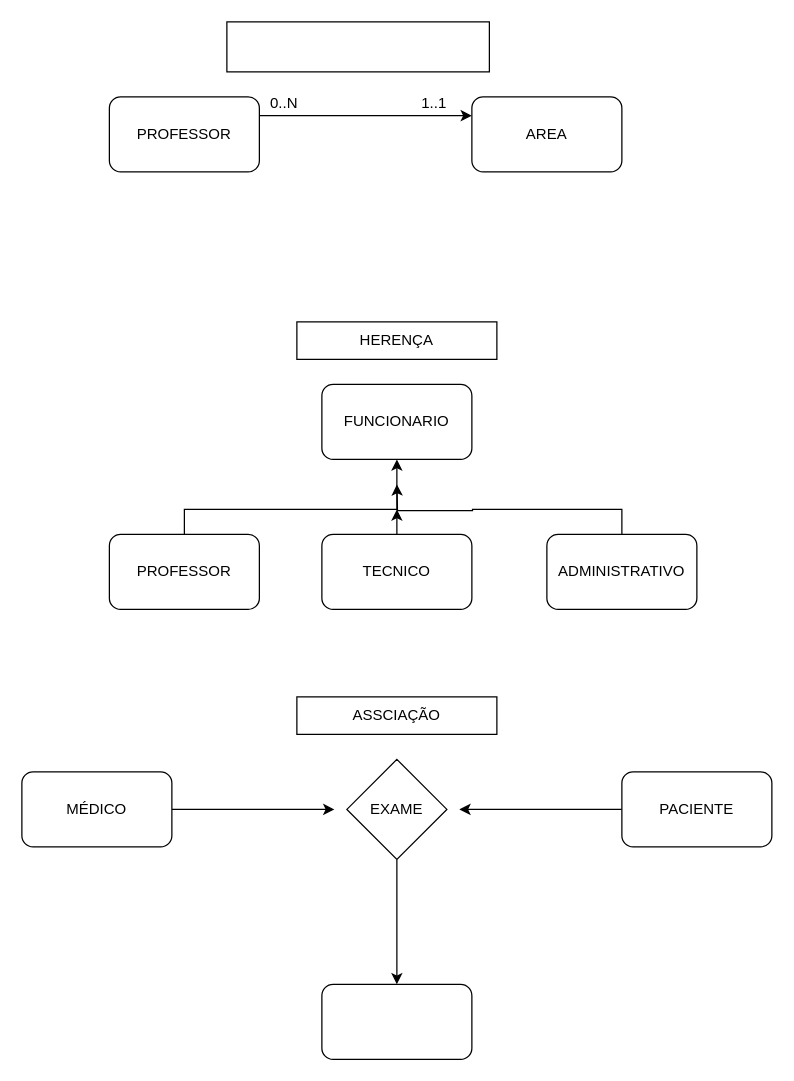
Image size: 794x1081. Some labels were removed from this diagram. The shapes that lost their labels are listed below. From the top down, each one's box as (x1, y1, x2, y2) in pixels, then its label:
(226, 21, 489, 72): RELACIONAMENTO SIMPLES
(321, 983, 472, 1059): LABORATÓRIO
